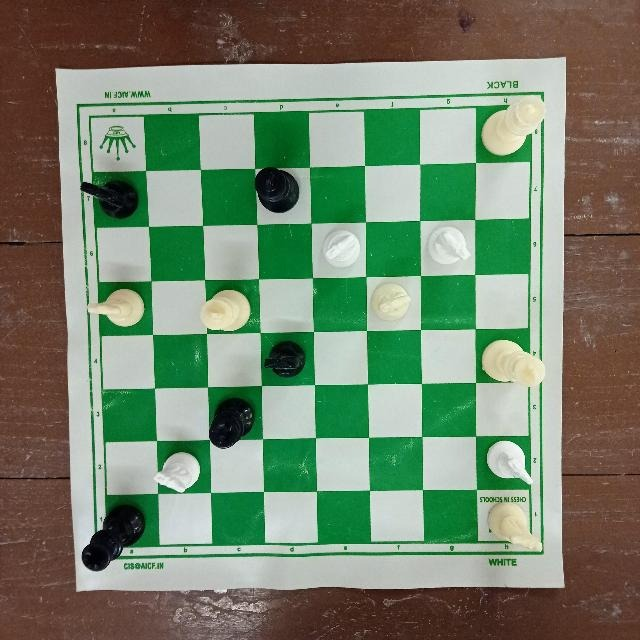black-king: (75, 502, 151, 572), (206, 396, 257, 451), (250, 166, 306, 216)
black-knight: (76, 174, 144, 224), (260, 339, 308, 380)
white-king: (479, 336, 547, 388), (190, 286, 252, 334)
white-knight: (484, 498, 546, 554), (84, 283, 146, 334), (481, 438, 539, 488), (149, 448, 204, 496), (426, 222, 475, 272), (366, 279, 415, 325), (320, 226, 364, 272)
white-queen: (481, 92, 547, 160)
